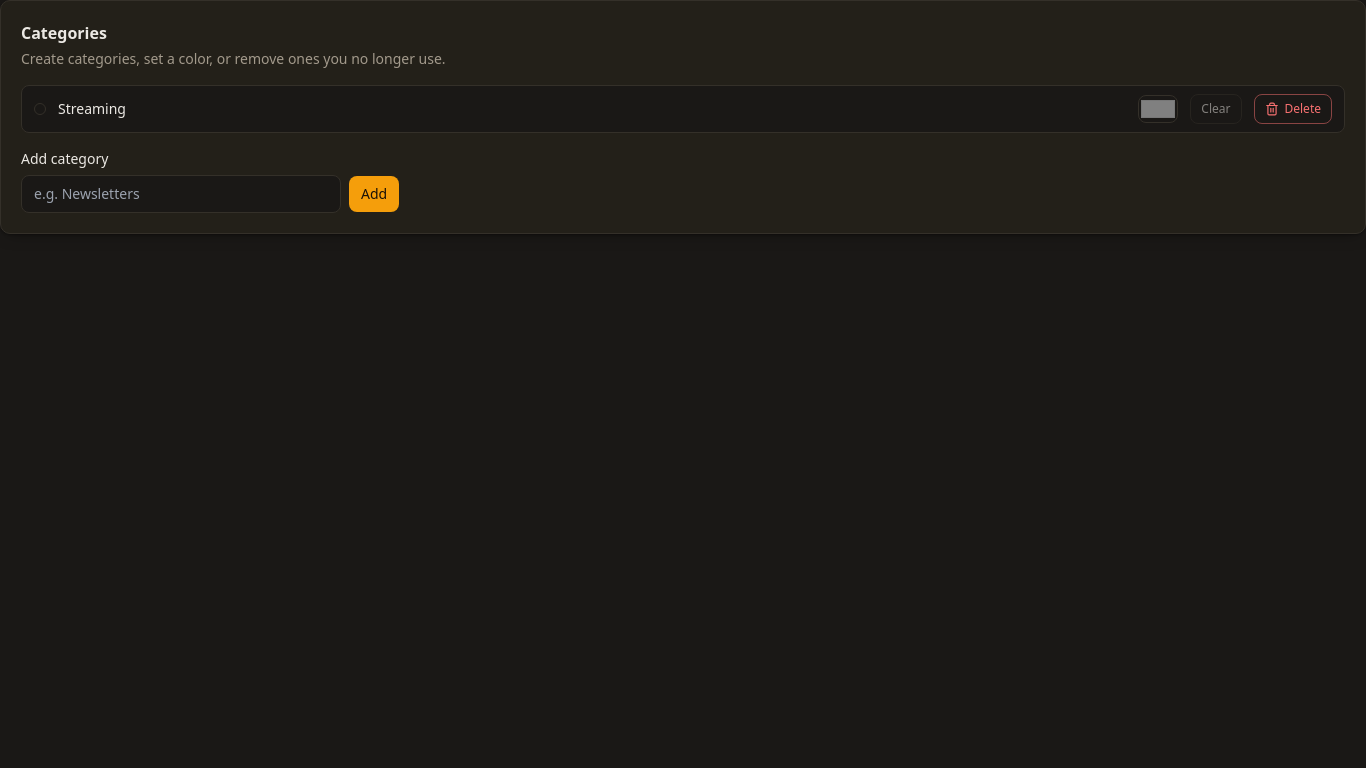
it: delete via branded confirmation (Story 3.4) › never uses window.confirm for category delete
Expected: the element "Categories" is shown, [0,0,1365,234]
Click the button with aria-label "Delete Streaming".
click(1293, 109)  # box [1254,94,1332,124]
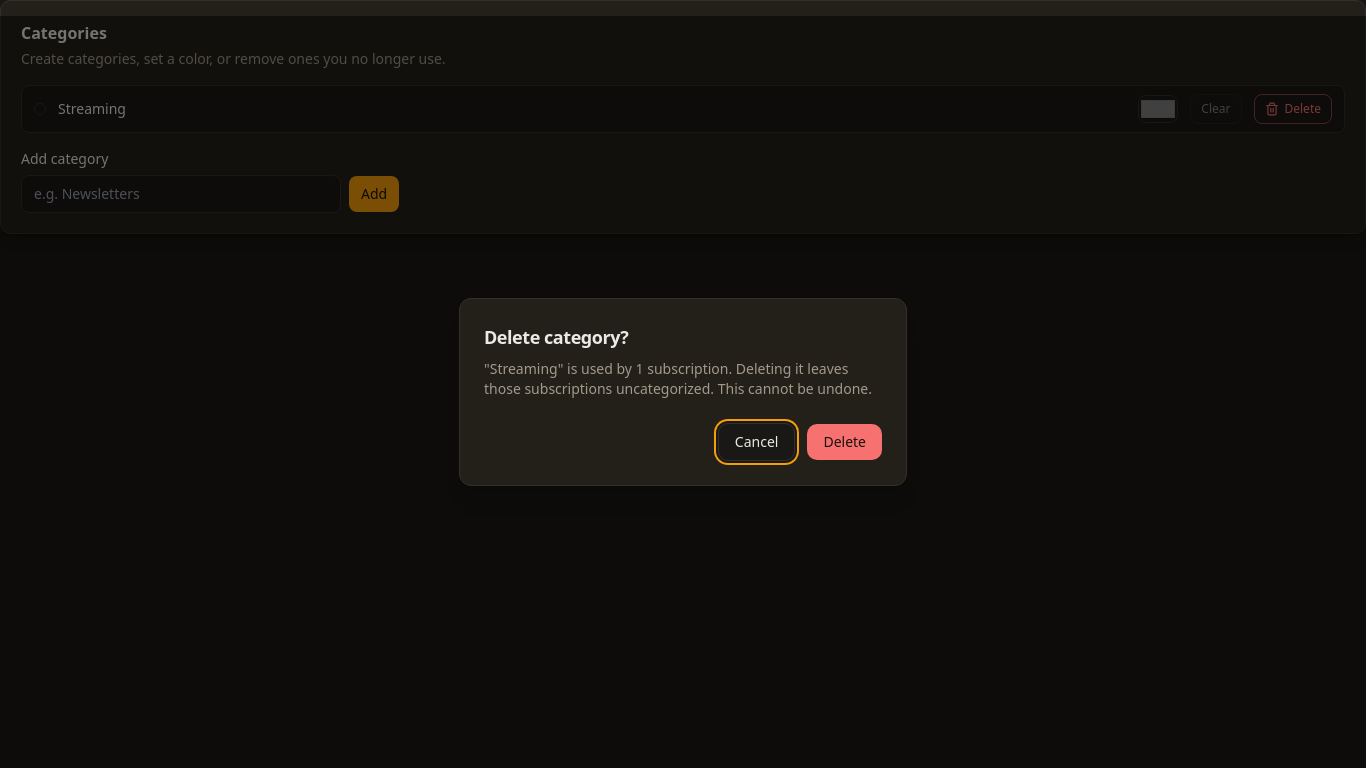
Expected: the dialog is shown, [459,298,907,486]
